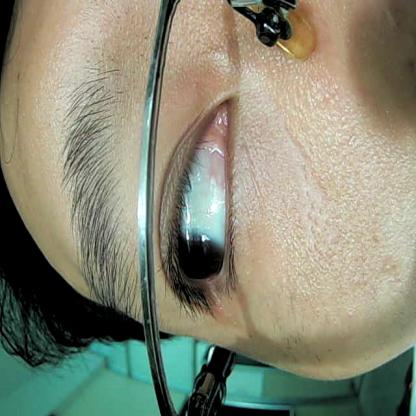Right: (157, 90, 247, 313)
